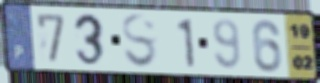1: (175, 17, 197, 69)
3: (73, 11, 111, 69)
6: (250, 17, 283, 74)
7: (34, 12, 67, 65)
9: (211, 18, 242, 71)
S: (120, 12, 160, 71)
